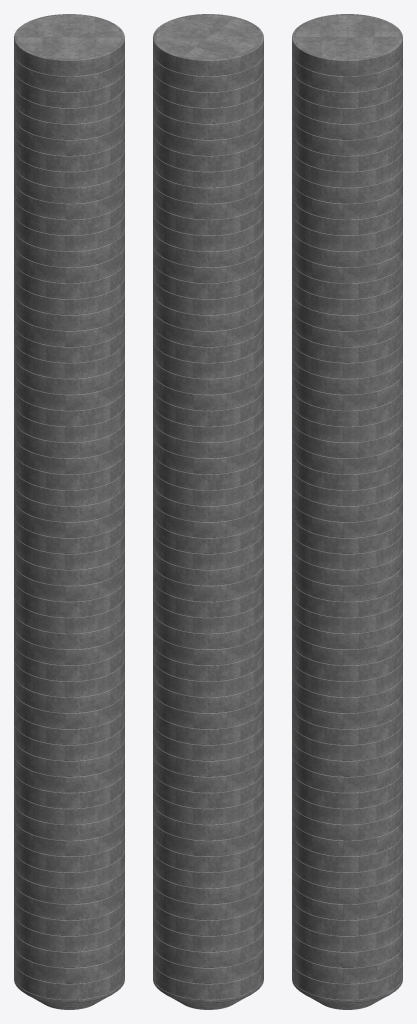
The model's file is SM_Pillar_01.fbx.
3 views of the same model, side by side, from view 1: azimuth 90°, elevation 25°; view 2: azimuth 150°, elevation 25°; view 3: azimuth 270°, elevation 25° (orthographic).
Parts seen in each view (by area): view 1: pCylinder765, pCylinder703, pCylinder708, pCylinder714, pCylinder701, pCylinder717, pCylinder719, pCylinder726, pCylinder738, pCylinder763, pCylinder723, pCylinder751 (+49 smaller); view 2: pCylinder765, pCylinder703, pCylinder708, pCylinder714, pCylinder701, pCylinder717, pCylinder719, pCylinder726, pCylinder738, pCylinder763, pCylinder723, pCylinder751 (+48 smaller); view 3: pCylinder765, pCylinder703, pCylinder708, pCylinder714, pCylinder701, pCylinder717, pCylinder719, pCylinder726, pCylinder738, pCylinder763, pCylinder723, pCylinder751 (+49 smaller).
Part boxes in pixels (box(x1,y1,x2,y2)): pCylinder765: box(14, 14, 124, 76); pCylinder703: box(14, 818, 124, 856); pCylinder708: box(14, 771, 124, 808); pCylinder714: box(14, 611, 124, 649); pCylinder701: box(14, 786, 124, 824); pCylinder717: box(14, 579, 124, 617); pCylinder719: box(14, 564, 124, 601); pCylinder726: box(14, 357, 124, 394); pCylinder738: box(14, 404, 124, 442); pCylinder763: box(14, 150, 124, 187); pCylinder723: box(14, 372, 124, 410); pCylinder751: box(14, 165, 124, 203); pCylinder765: box(153, 14, 263, 76); pCylinder703: box(153, 818, 263, 856); pCylinder708: box(153, 771, 263, 808); pCylinder714: box(153, 611, 263, 649); pCylinder701: box(153, 786, 263, 824); pCylinder717: box(153, 579, 263, 617); pCylinder719: box(153, 564, 263, 601); pCylinder726: box(153, 357, 263, 394); pCylinder738: box(153, 404, 263, 442); pCylinder763: box(153, 150, 263, 187); pCylinder723: box(153, 372, 263, 410); pCylinder751: box(153, 165, 263, 203); pCylinder765: box(292, 14, 402, 76); pCylinder703: box(292, 818, 402, 856); pCylinder708: box(292, 771, 402, 808); pCylinder714: box(292, 611, 402, 649); pCylinder701: box(292, 786, 402, 824); pCylinder717: box(292, 579, 402, 617); pCylinder719: box(292, 564, 402, 601); pCylinder726: box(292, 357, 402, 394); pCylinder738: box(292, 404, 402, 442); pCylinder763: box(292, 150, 402, 187); pCylinder723: box(292, 372, 402, 410); pCylinder751: box(292, 165, 402, 203).
Size of the model in its own units: 631 by 6030 by 631.
